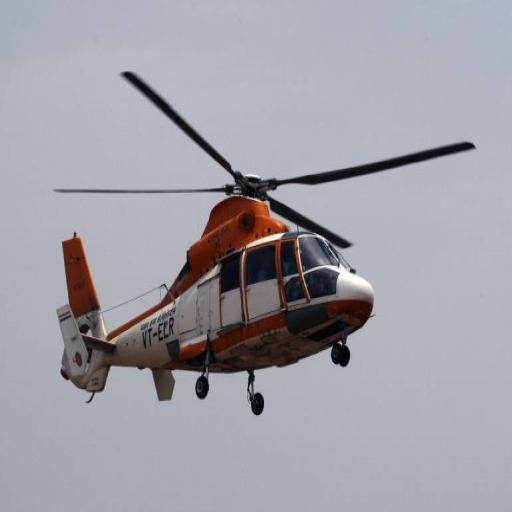helicopter: (44, 63, 478, 429)
